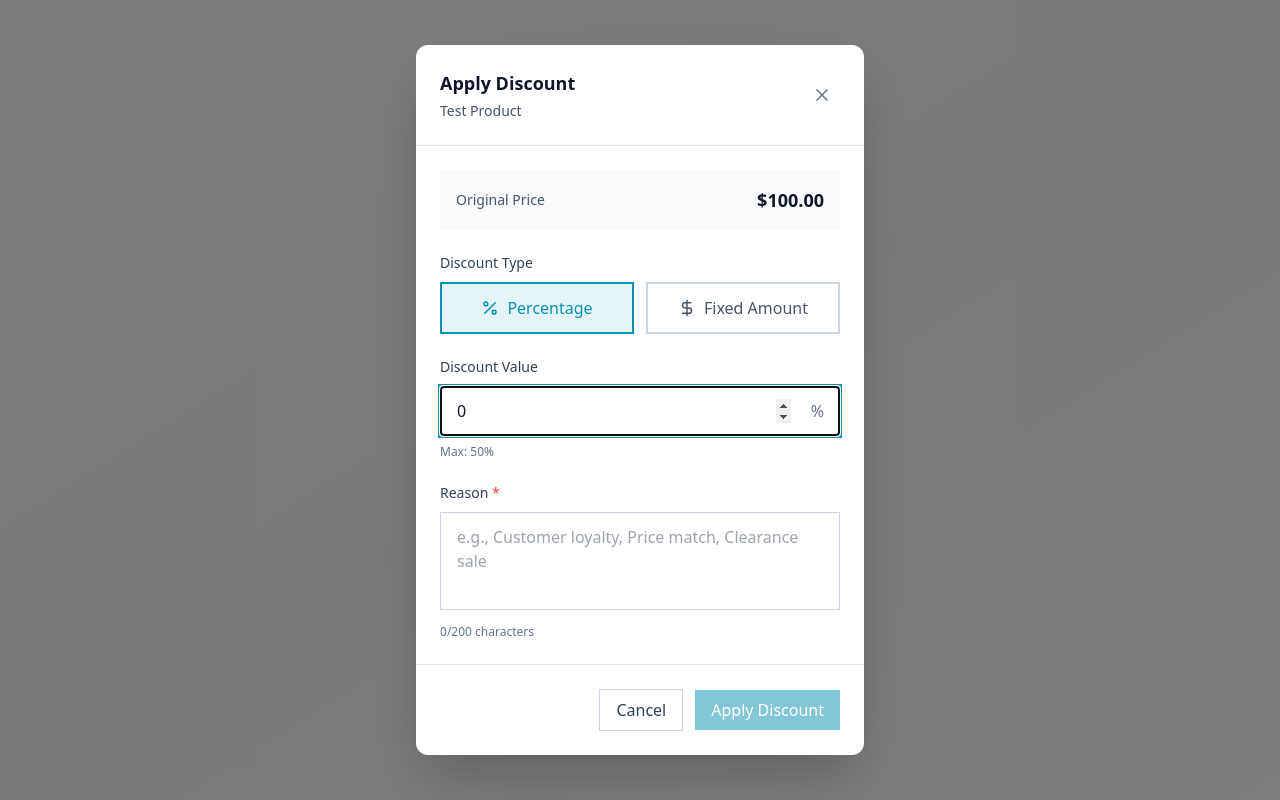
it: DiscountModal › calculates fixed discount correctly
Click the button "Fixed Amount". click: [743, 308]
box: [646,282,840,334]
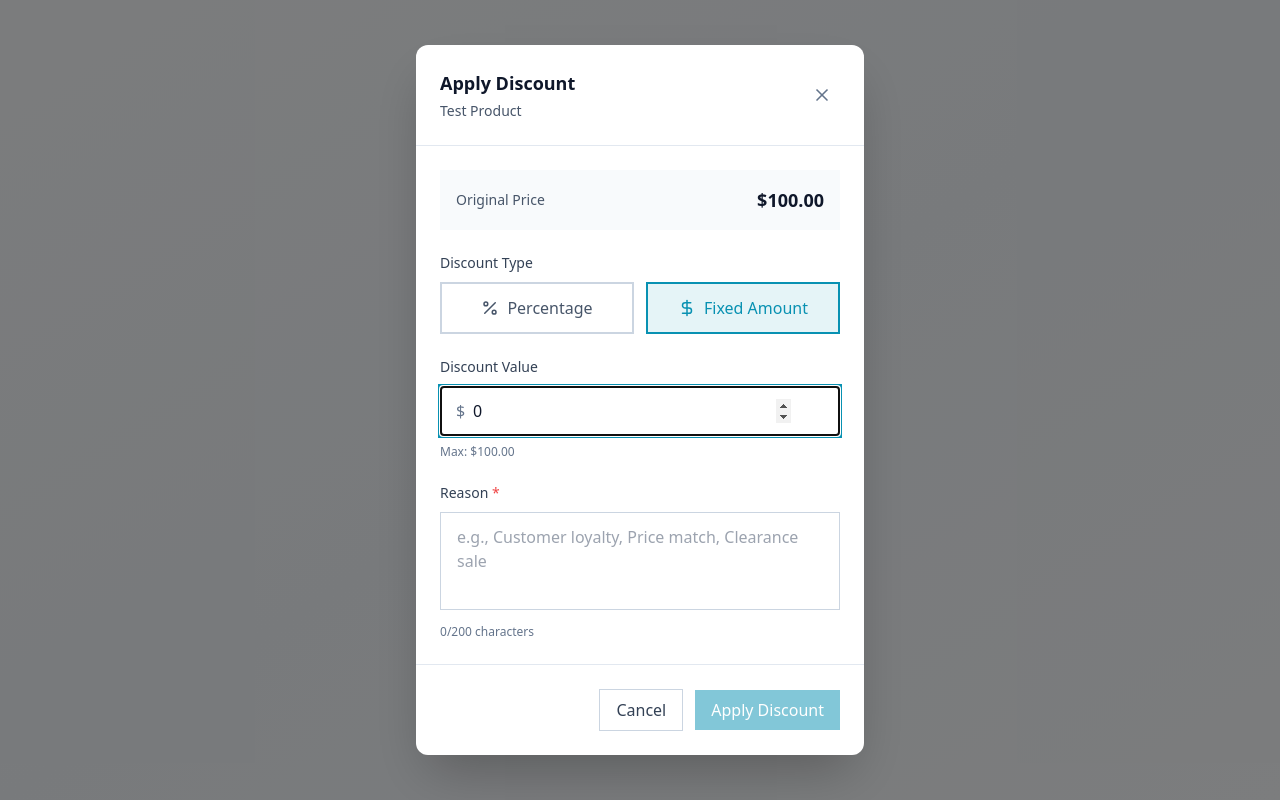
Type "25" into the number field with placeholder "0". click: [640, 411]
box: [440,386,840,436]
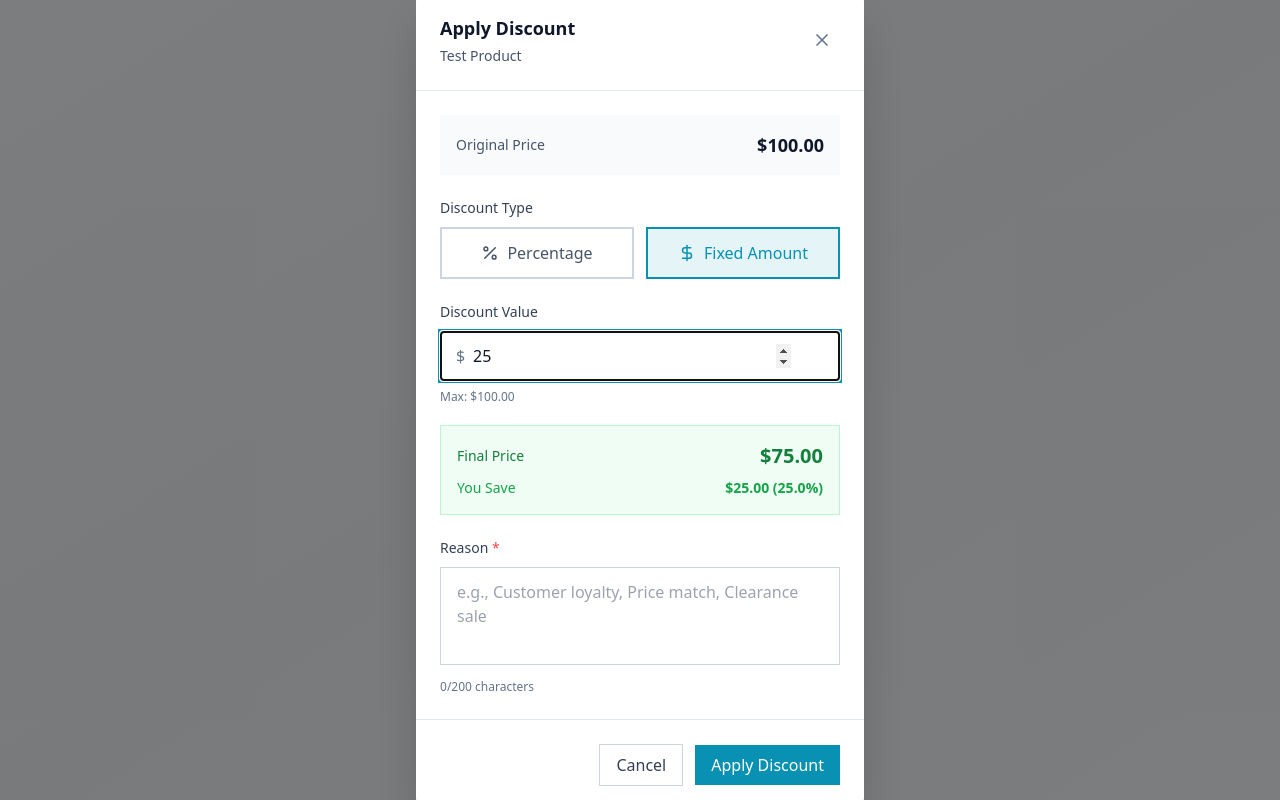
expect the text "$75.00" is shown: met, box [760,442,823,470]
expect the text "$25.00 (25.0%)" is shown: met, box [725,478,823,498]
